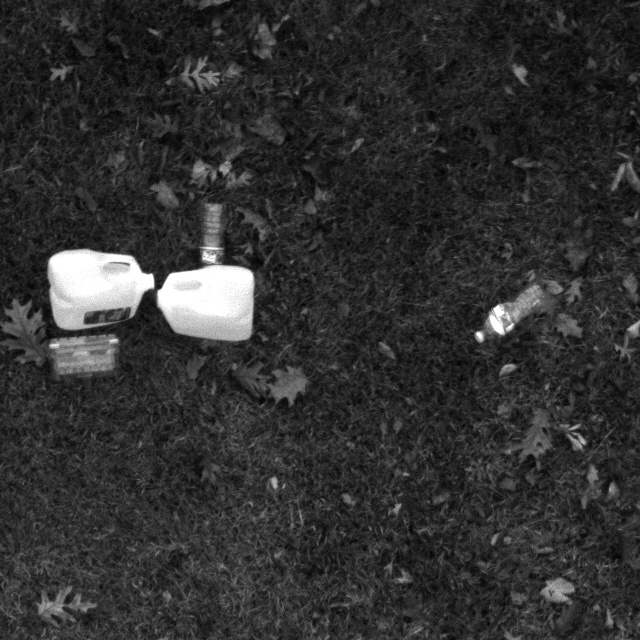bottle: (457, 281, 549, 348), (194, 195, 237, 270)
can: (40, 248, 164, 341), (156, 258, 273, 351)
container: (47, 326, 130, 384)
